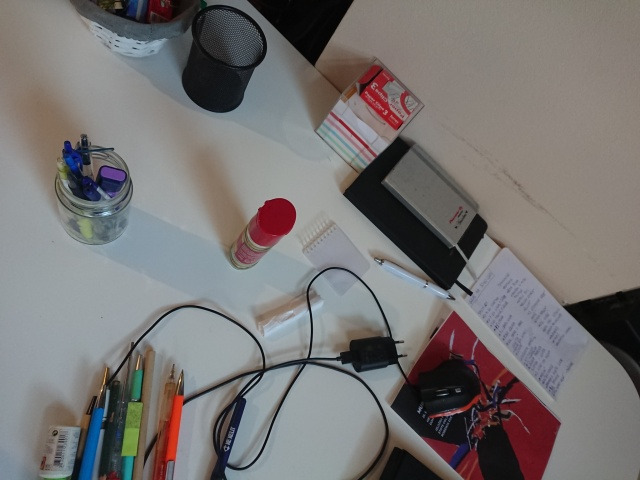Kotanyi Curry Spices Mix 70g: (227, 195, 299, 273)
